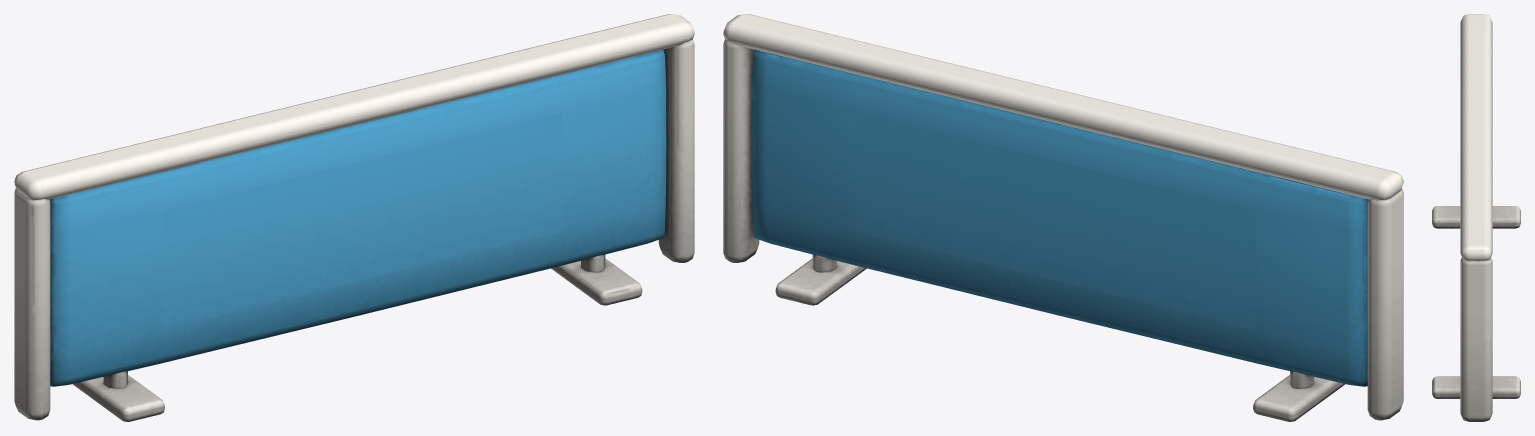
The model's file is desk_divider.glb.
The picture shows the model from 3 angles, left to right: view 1: azimuth 30°, elevation 25°; view 2: azimuth 150°, elevation 25°; view 3: azimuth 270°, elevation 25°; orthographic projection. The views are drawn at different scales.
Parts seen in each view (by area): view 1: desk_divider; view 2: desk_divider; view 3: desk_divider.
Part boxes in pixels (x1,y1,x2,y2): desk_divider: (14, 14, 694, 421); desk_divider: (723, 14, 1403, 421); desk_divider: (1432, 14, 1520, 421).
Bounding box in the file's own units: 1.4 × 0.4875 × 0.22.
2 materials, 2 textured.
